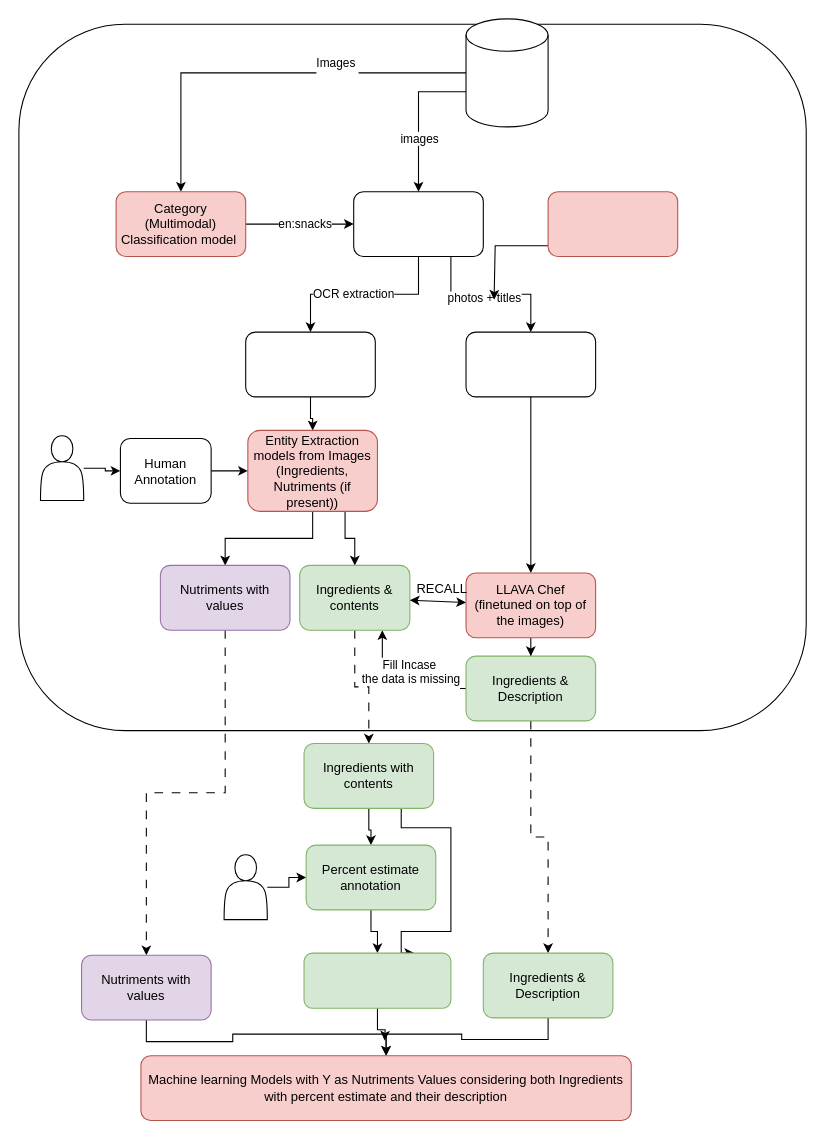
Some shapes in this 825 by 1139 pixel diagram are drawn without their labels. Each missing label, with the box of its shape:
DB: (465, 18, 548, 127)
Get Specific Category data: (353, 191, 483, 256)
Ingredients with Percent estiamate: (303, 952, 451, 1008)
OCR from images: (245, 331, 375, 397)
Photos extractor (Bounding box models): (547, 191, 678, 256)
Photos of the food items alone from images: (465, 331, 596, 397)
